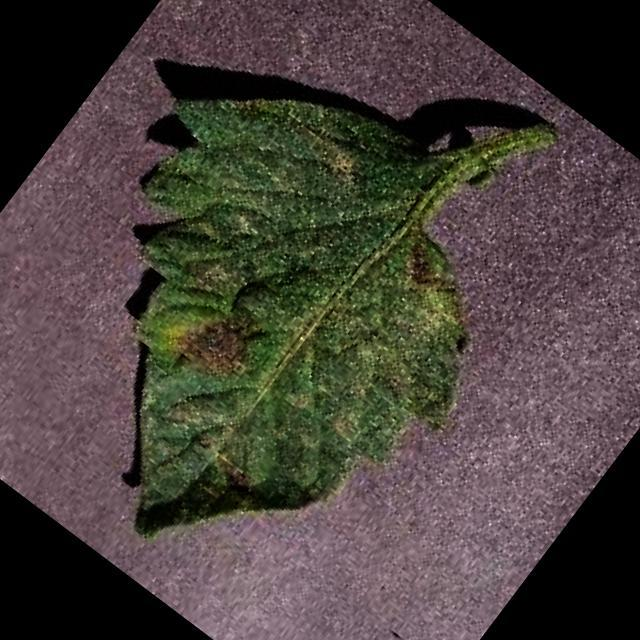Tomato Early blight leaf: (0, 14, 561, 640)
